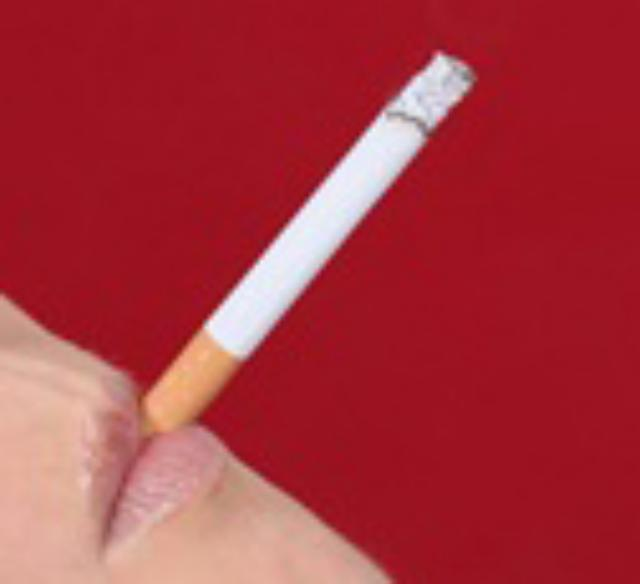Smoking: (116, 52, 478, 482)
